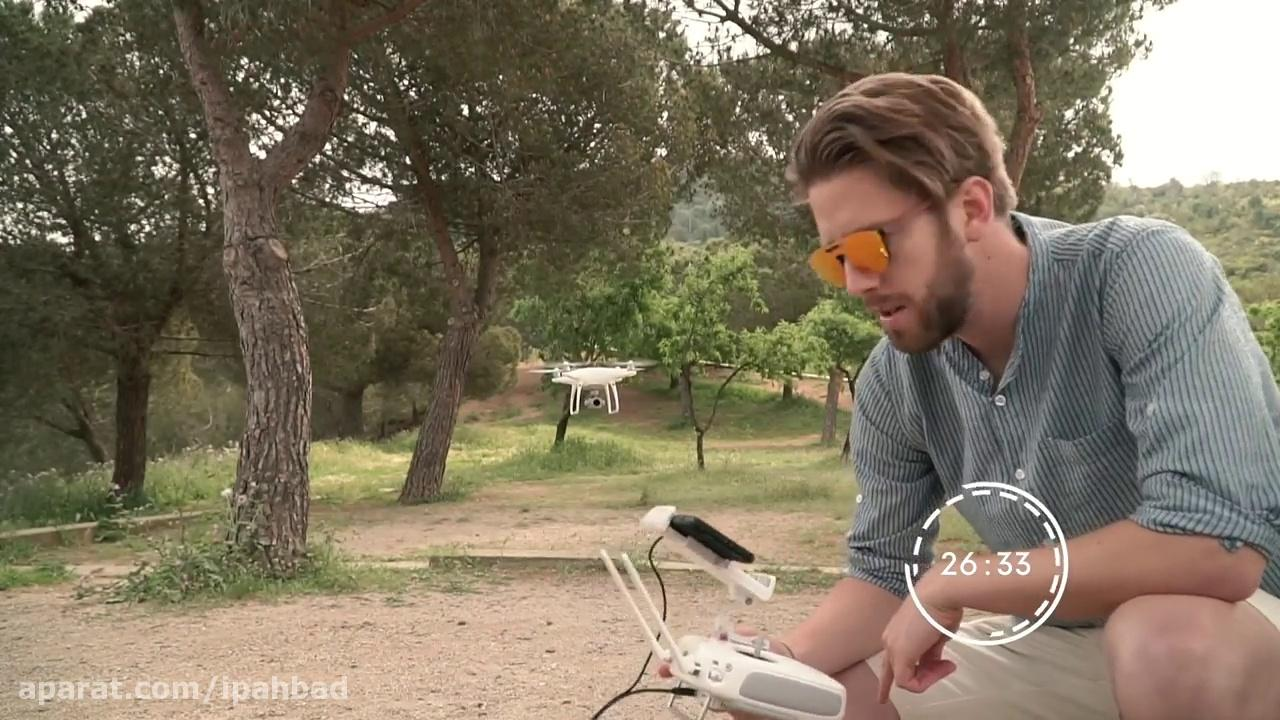drone: (522, 353, 660, 419)
